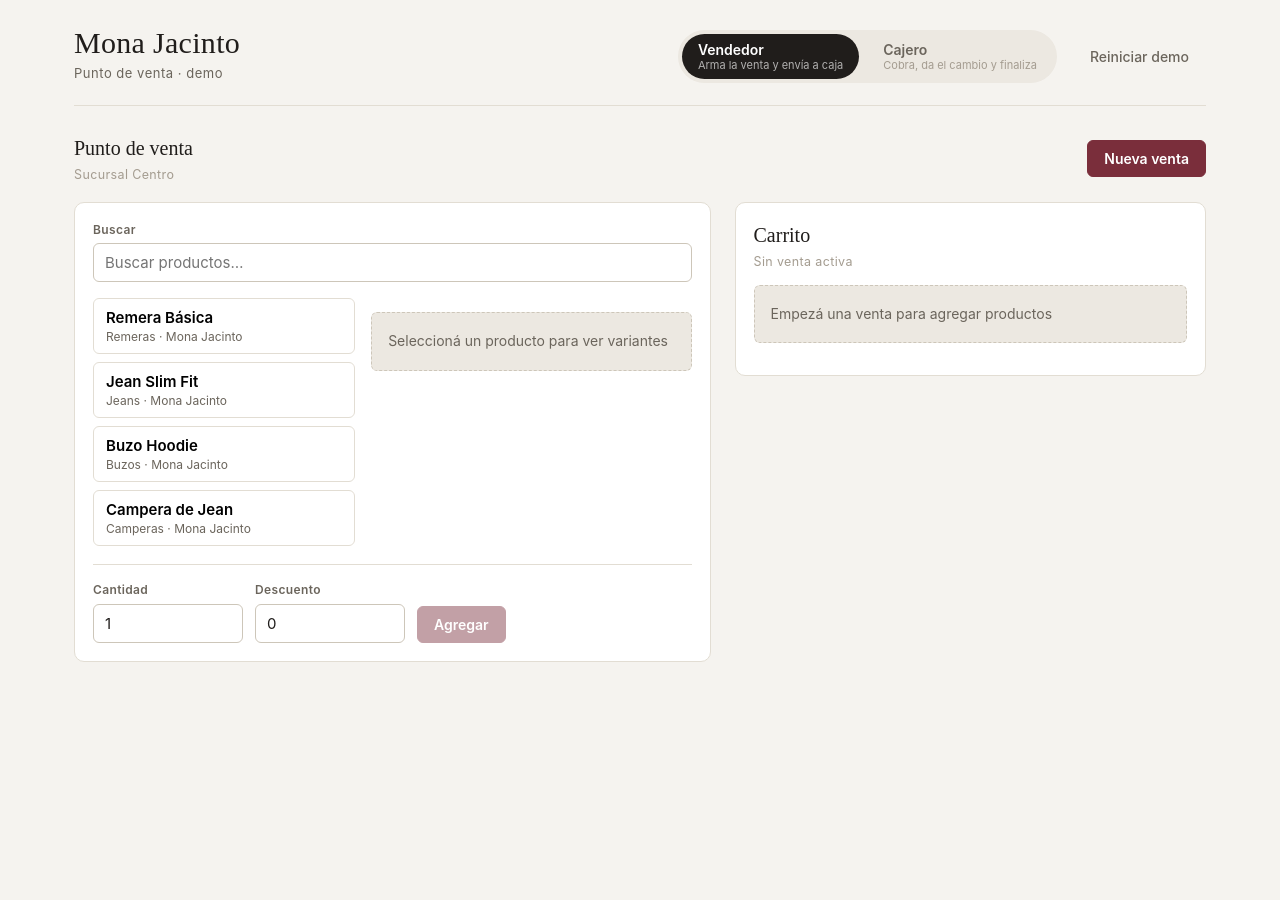
Test: App › rejects a quantity that exceeds available stock
This screenshot has width=1280, height=900.
Click the button "Nueva venta": (1147, 159) top-left (1087, 140), bottom-right (1206, 177)
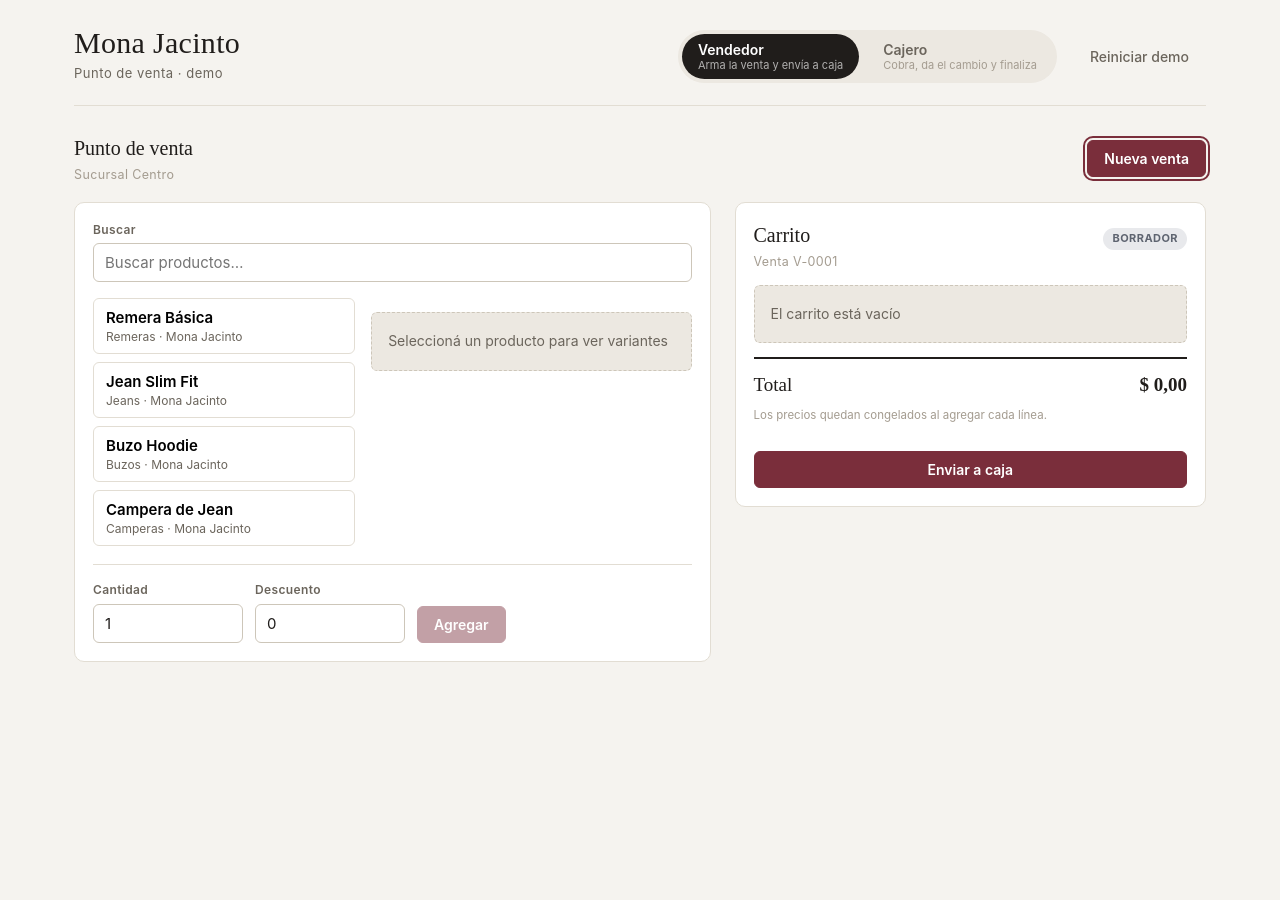
Click the button "Remera Básica Remeras · Mona Jacinto": (224, 326) top-left (93, 298), bottom-right (355, 354)
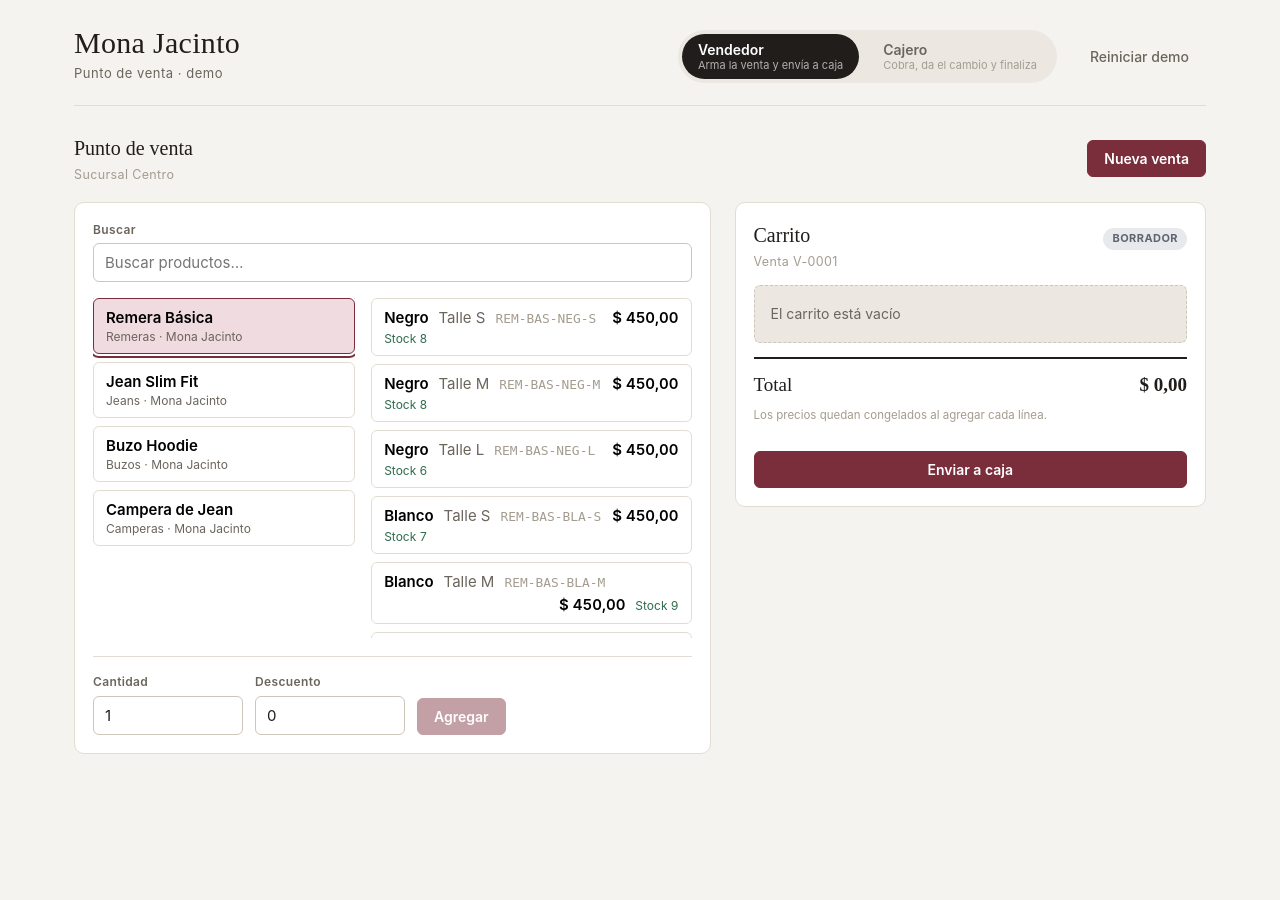
Click the button "Negro Talle M REM-BAS-NEG-M $ 450,00 Stock 8": (531, 393) top-left (371, 364), bottom-right (692, 422)
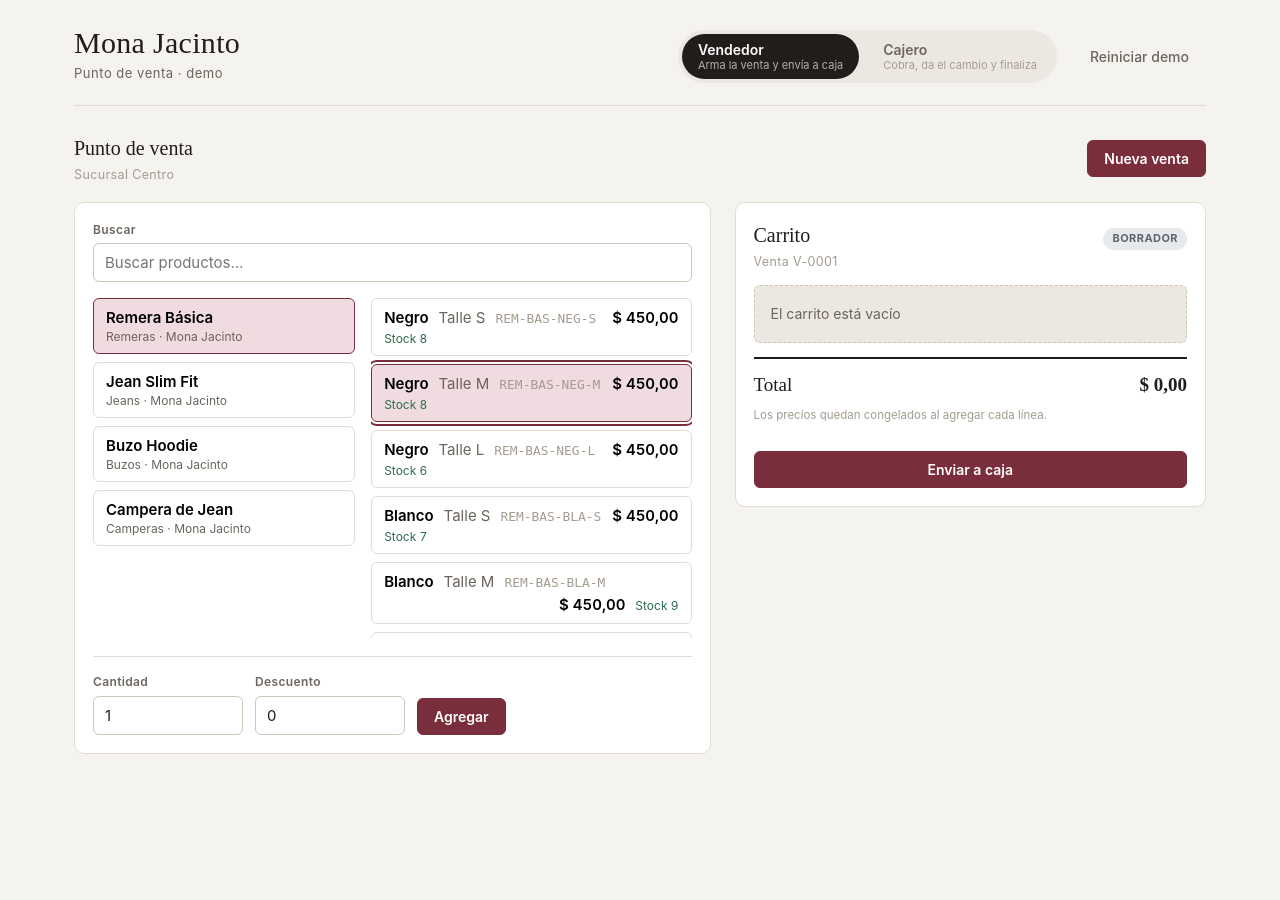
Replace the text in the number field labelled "Cantidad" with "999": (168, 715) top-left (93, 696), bottom-right (243, 735)
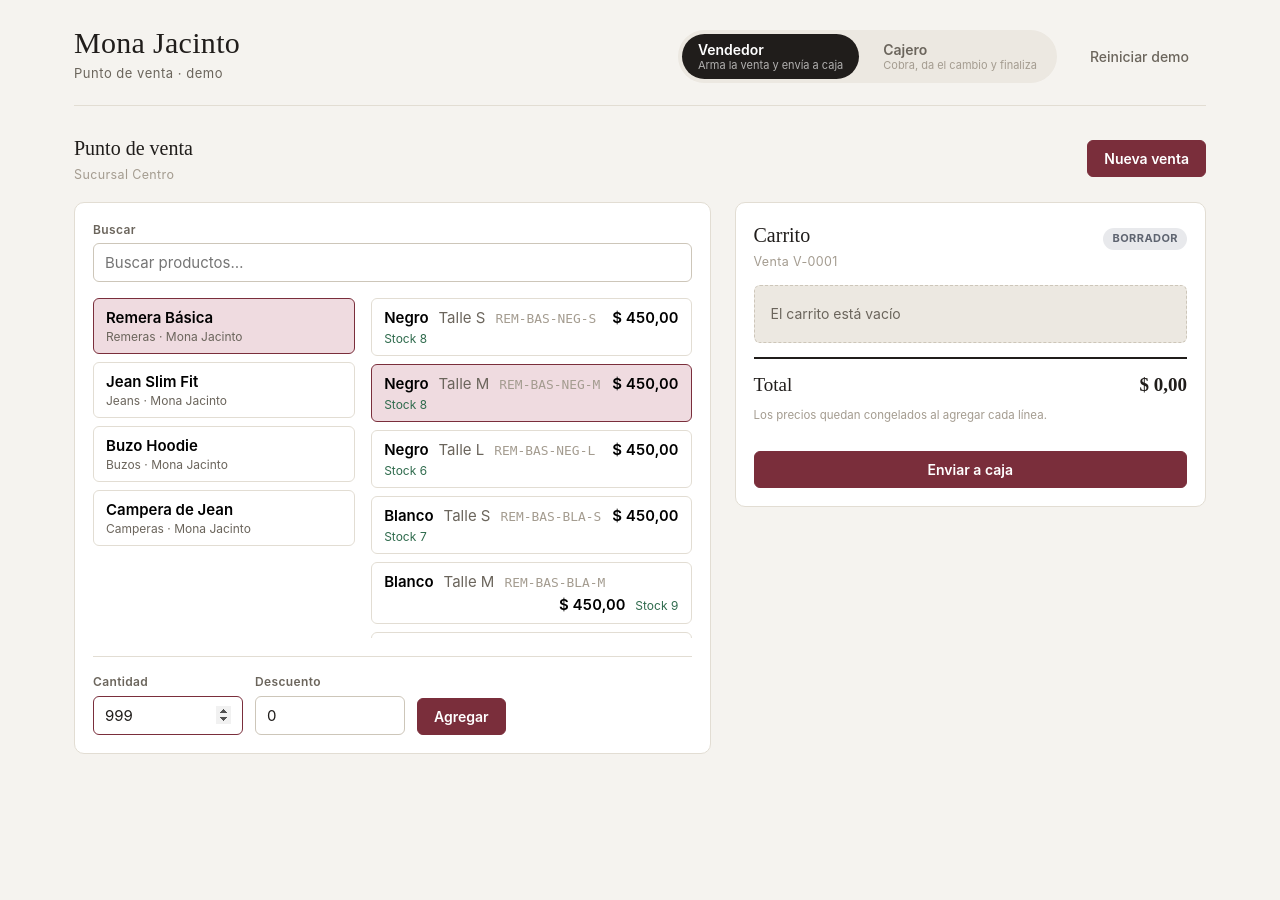
Click the button "Agregar": (461, 716) top-left (417, 698), bottom-right (506, 735)
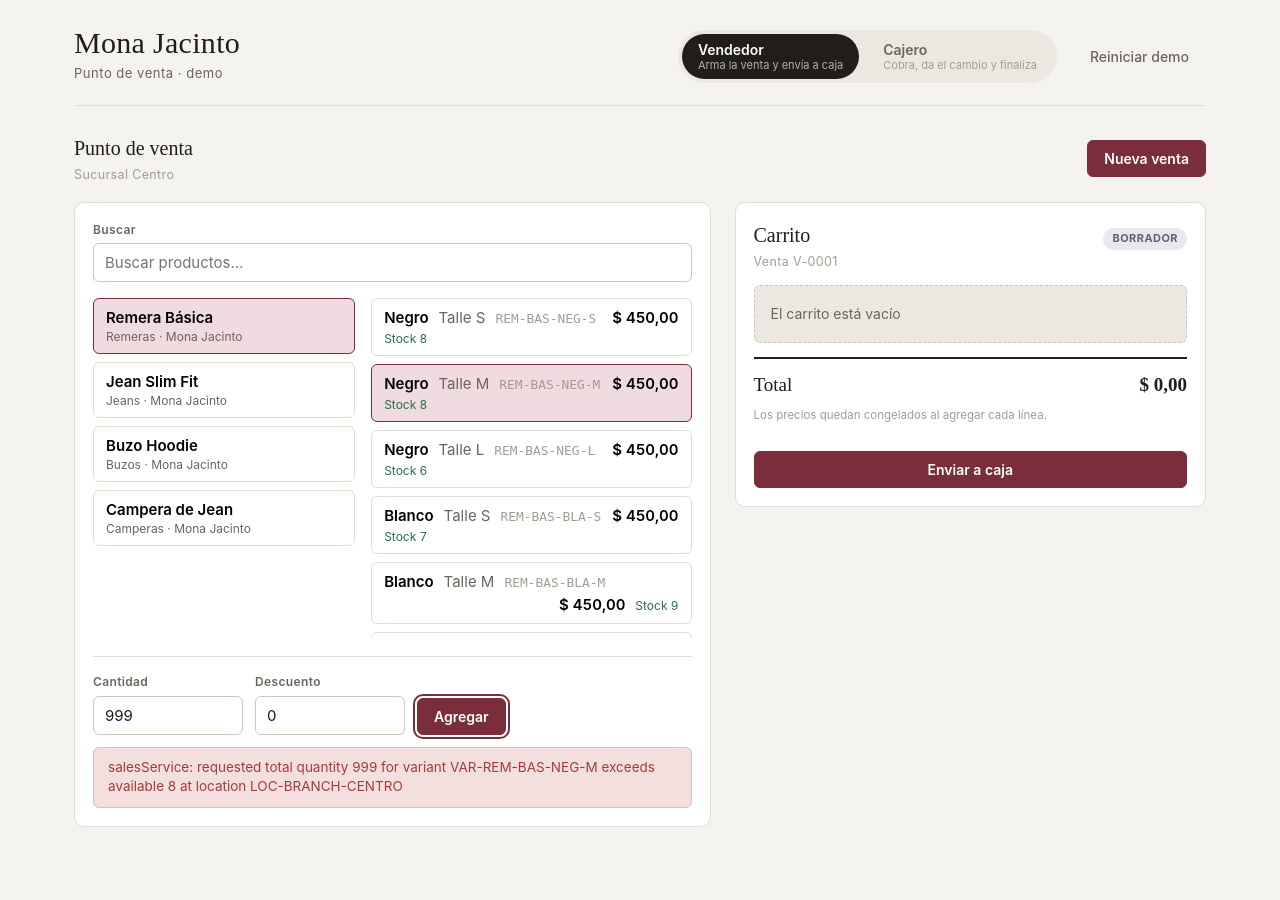
Now the text "exceeds available" is shown, box top-left (108, 759), bottom-right (655, 794)
